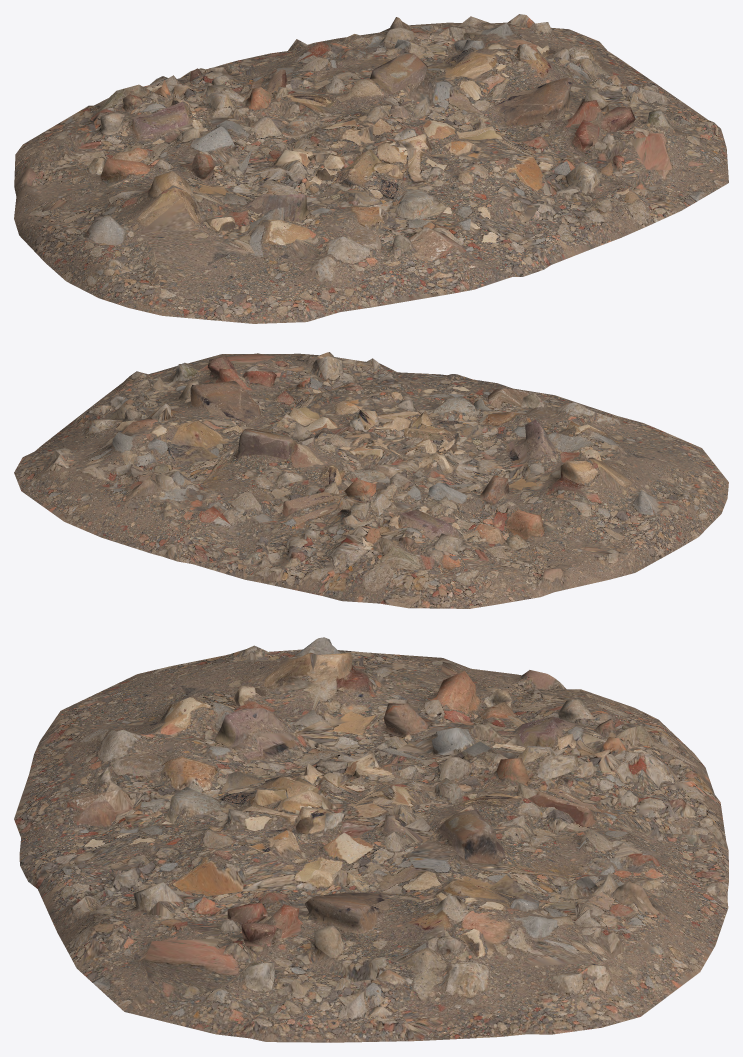
Rendered from DebrisSoloN.glb.
The picture shows the model from 3 angles, top to bottom: view 1: azimuth 30°, elevation 25°; view 2: azimuth 150°, elevation 25°; view 3: azimuth 270°, elevation 25°; orthographic projection. The views are drawn at different scales.
Visible parts, largest first — view 1: Aset_cement_rubble_S_riuvL_LOD4; view 2: Aset_cement_rubble_S_riuvL_LOD4; view 3: Aset_cement_rubble_S_riuvL_LOD4.
Boxes of the visible parts, x1,y1,x2,y2 form: Aset_cement_rubble_S_riuvL_LOD4: (14, 14, 728, 323); Aset_cement_rubble_S_riuvL_LOD4: (14, 352, 728, 608); Aset_cement_rubble_S_riuvL_LOD4: (14, 637, 728, 1042).
Bounding box in the file's own units: 1.03 × 0.108 × 0.8066.
Materials: 1 (1 with a texture image).
